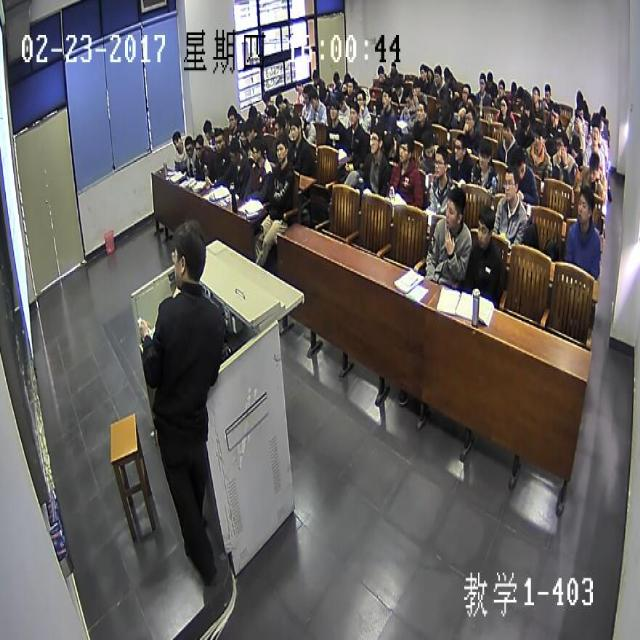person: (170, 218, 206, 289), (446, 187, 464, 233), (477, 203, 492, 249), (576, 186, 591, 220), (503, 167, 517, 201), (512, 145, 525, 180), (368, 122, 382, 153), (554, 131, 568, 162), (431, 150, 444, 180), (453, 130, 465, 160), (272, 115, 285, 142), (274, 137, 288, 162), (398, 135, 410, 163), (478, 139, 490, 167), (382, 132, 394, 158), (289, 112, 299, 142), (532, 127, 542, 154), (588, 153, 598, 180), (502, 117, 513, 141), (381, 84, 390, 113), (229, 138, 239, 164), (252, 138, 262, 164), (464, 106, 474, 132), (548, 102, 558, 127), (214, 131, 224, 155), (432, 64, 442, 88), (423, 132, 431, 162), (194, 132, 203, 157), (349, 102, 357, 130), (392, 75, 402, 97), (416, 102, 426, 124), (522, 98, 532, 120), (403, 88, 413, 109), (204, 121, 214, 141), (329, 97, 337, 122), (355, 90, 365, 110), (172, 128, 180, 152), (274, 92, 284, 111), (591, 123, 599, 146), (498, 96, 508, 114), (227, 108, 235, 130), (478, 71, 485, 96), (310, 88, 318, 109), (544, 83, 552, 104), (418, 60, 426, 80), (246, 125, 255, 142), (240, 126, 248, 145), (444, 64, 452, 82), (460, 82, 468, 100), (337, 96, 347, 110), (185, 136, 192, 155), (346, 78, 354, 94), (576, 105, 583, 123), (302, 91, 310, 106), (376, 63, 384, 78), (498, 78, 504, 97), (389, 59, 396, 74), (486, 71, 493, 86), (332, 70, 338, 87), (533, 88, 539, 101), (510, 80, 515, 95), (312, 69, 318, 80)
